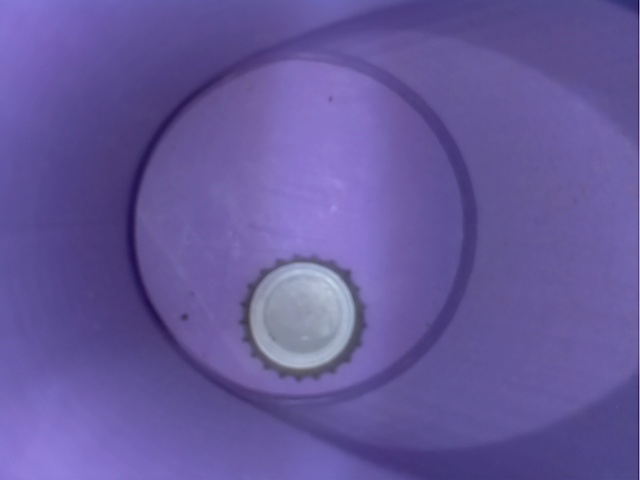capsule: (220, 250, 371, 389)
